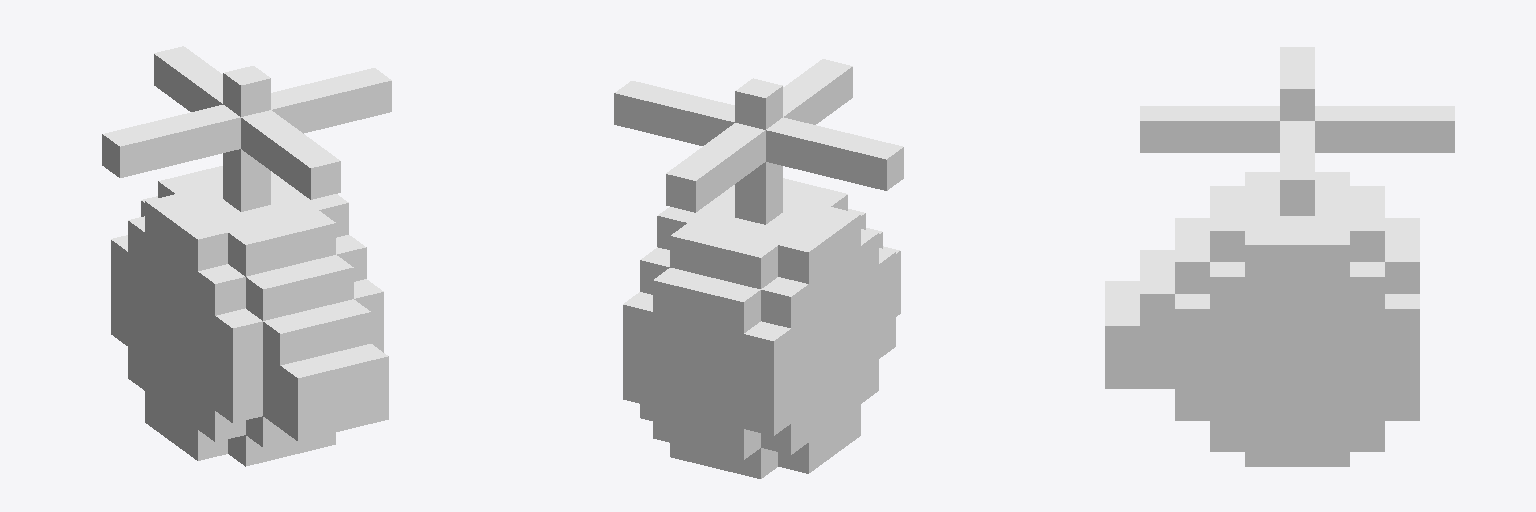
File: TransportPropeller.obj
3 renders of one model, left to right at view 1: azimuth 30°, elevation 25°; view 2: azimuth 150°, elevation 25°; view 3: azimuth 270°, elevation 25°, orthographic.
Visible parts, largest first — view 1: object 1; view 2: object 1; view 3: object 1.
Boxes of the visible parts, box(x1,y1,x2,y2) form: object 1: box(102, 46, 391, 466); object 1: box(614, 59, 903, 478); object 1: box(1105, 47, 1454, 466).
Bounding box in the file's own units: 0.9 × 1.1 × 1.